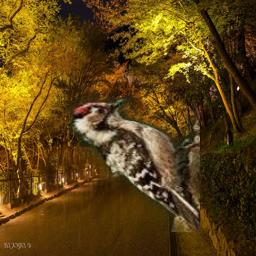Woodpecker: (70, 97, 200, 232)
